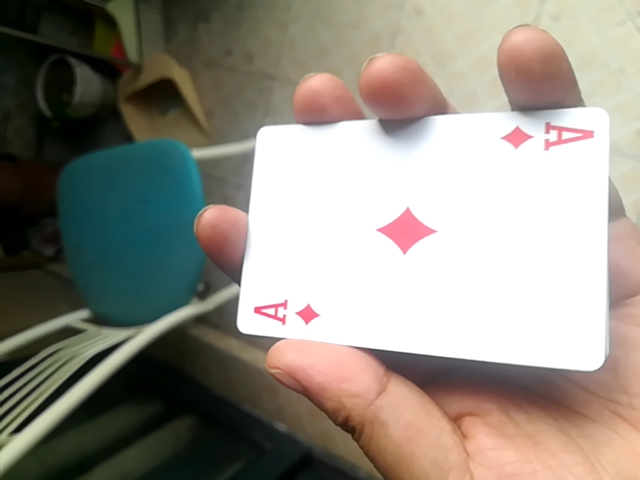fk a: (240, 116, 609, 373)
